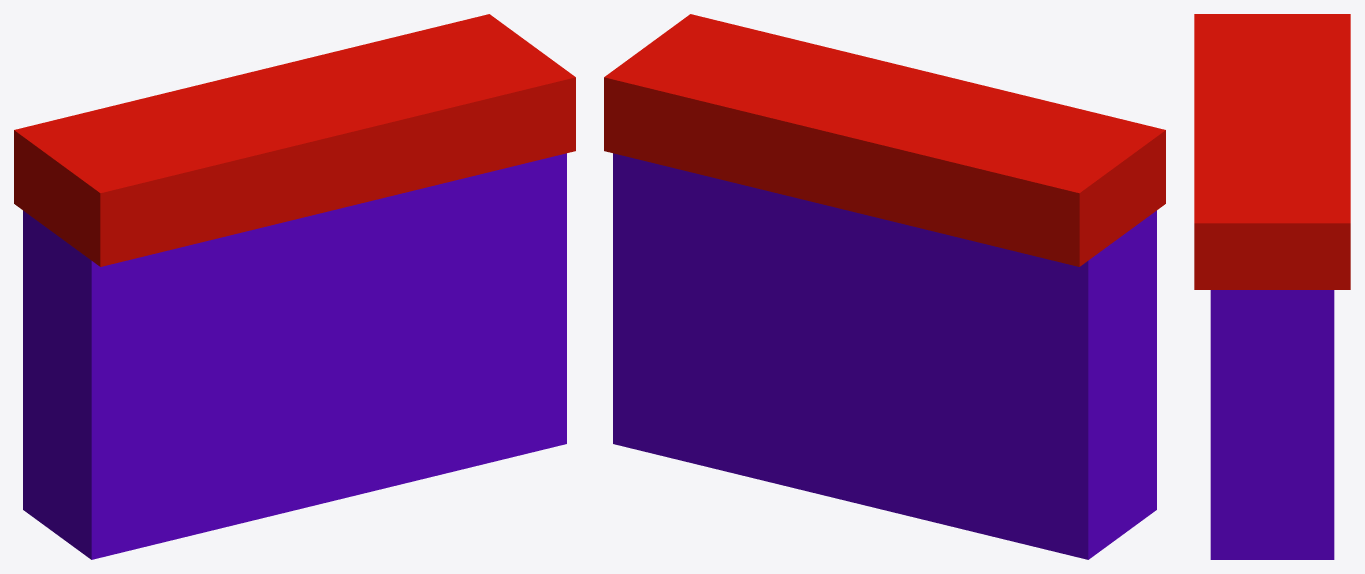
Rendered from Fence.fbx.
3 views of the same model, side by side, from view 1: azimuth 30°, elevation 25°; view 2: azimuth 150°, elevation 25°; view 3: azimuth 270°, elevation 25° (orthographic). The views are drawn at different scales.
Visible parts, largest first — view 1: Fence; view 2: Fence; view 3: Fence.
Boxes of the visible parts, x1,y1,x2,y2 form: Fence: [14, 14, 575, 559]; Fence: [604, 14, 1165, 559]; Fence: [1194, 14, 1350, 559].
Bounding box in the file's own units: 200 × 150 × 63.
